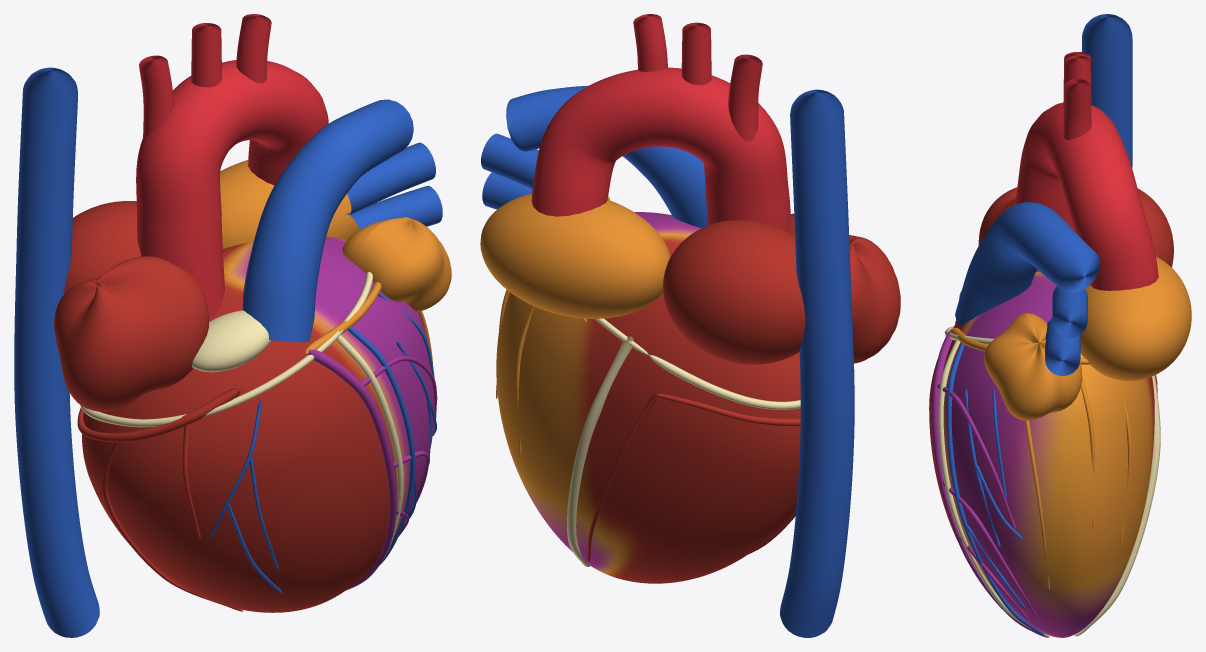
Rendered from Heart2_Perfusion_Map.glb.
The picture shows the model from 3 angles, left to right: view 1: azimuth 30°, elevation 25°; view 2: azimuth 150°, elevation 25°; view 3: azimuth 270°, elevation 25°; orthographic projection. The views are drawn at different scales.
Visible parts, largest first — view 1: Ventricle_Muscle, Vena_Cava, Aorta, Right_Atrium, Pulmonary_Trunk, Left_Atrial_Appendage, Right_Atrium_Back, Left_Atrium, LAD, RCA, Fat_patch, Pulmonary_Vein_1 (+9 smaller); view 2: Ventricle_Muscle, Vena_Cava, Aorta, Left_Atrium, Right_Atrium_Back, Pulmonary_Trunk, Right_Atrium, IV_groove_back_fat, Aortic_branch_1, RCA, Pulmonary_Vein_1, Aortic_branch_2 (+4 smaller); view 3: Ventricle_Muscle, Aorta, Pulmonary_Trunk, Left_Atrium, Left_Atrial_Appendage, Vena_Cava, LAD, LCX, IV_groove_back_fat, IV_groove_front_fat, Aortic_branch_3, Pulmonary_Vein_1 (+7 smaller).
Boxes of the visible parts, <box> form: Ventricle_Muscle: <box>82,236,434,612</box>; Vena_Cava: <box>14,67,99,637</box>; Aorta: <box>136,60,328,321</box>; Right_Atrium: <box>54,256,208,411</box>; Pulmonary_Trunk: <box>242,99,413,342</box>; Left_Atrial_Appendage: <box>342,217,451,311</box>; Right_Atrium_Back: <box>64,201,141,293</box>; Left_Atrium: <box>220,160,359,248</box>; LAD: <box>308,349,436,590</box>; RCA: <box>77,388,243,611</box>; Fat_patch: <box>191,310,271,372</box>; Pulmonary_Vein_1: <box>347,142,435,214</box>; Ventricle_Muscle: <box>496,212,800,583</box>; Vena_Cava: <box>780,89,854,637</box>; Aorta: <box>531,67,790,230</box>; Left_Atrium: <box>480,193,670,318</box>; Right_Atrium_Back: <box>663,220,805,364</box>; Pulmonary_Trunk: <box>506,85,707,228</box>; Right_Atrium: <box>787,213,900,363</box>; IV_groove_back_fat: <box>567,336,633,566</box>; Aortic_branch_1: <box>728,54,762,141</box>; RCA: <box>587,394,800,561</box>; Pulmonary_Vein_1: <box>481,133,538,188</box>; Aortic_branch_2: <box>681,22,711,85</box>; Ventricle_Muscle: <box>929,271,1154,637</box>; Aorta: <box>1015,102,1158,290</box>; Pulmonary_Trunk: <box>955,202,1099,326</box>; Left_Atrium: <box>1080,256,1191,380</box>; Left_Atrial_Appendage: <box>983,313,1082,420</box>; Vena_Cava: <box>1082,14,1132,167</box>; LAD: <box>931,329,1048,637</box>; LCX: <box>951,327,1131,589</box>; IV_groove_back_fat: <box>1074,375,1160,636</box>; IV_groove_front_fat: <box>938,339,1049,637</box>; Aortic_branch_3: <box>1063,79,1091,139</box>; Pulmonary_Vein_1: <box>1052,286,1087,337</box>.
Bounding box in the file's own units: 2.79 × 3.98 × 1.77.
